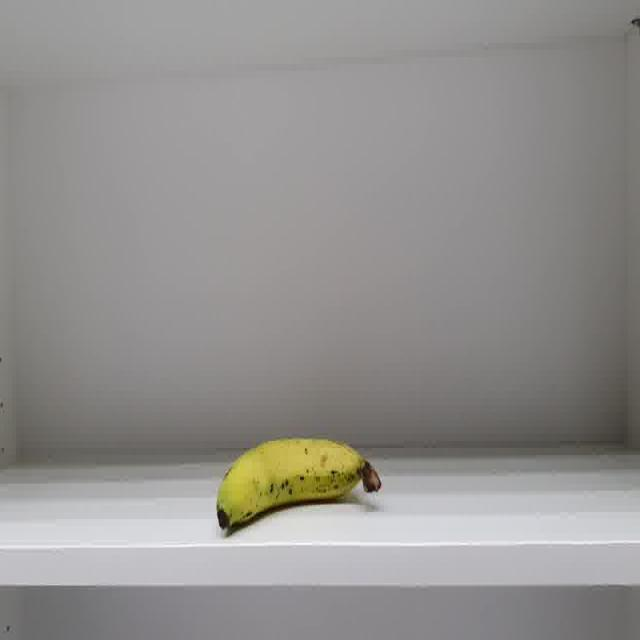Banana: (215, 436, 382, 533)
